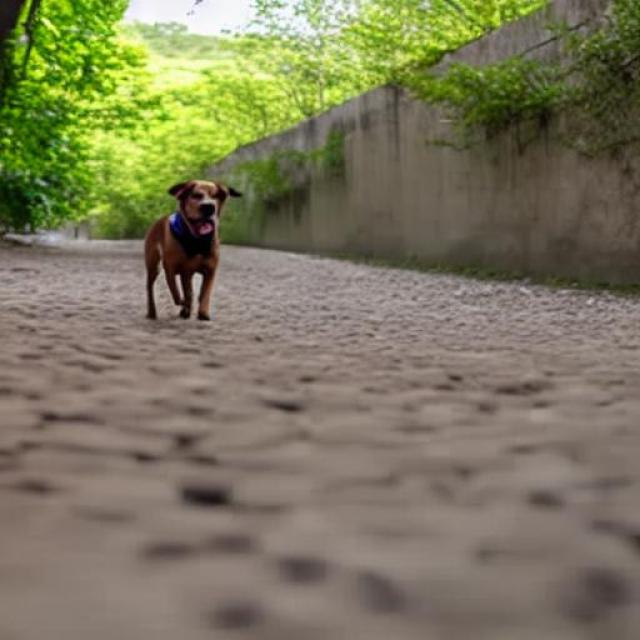Dog: (145, 180, 244, 320)
